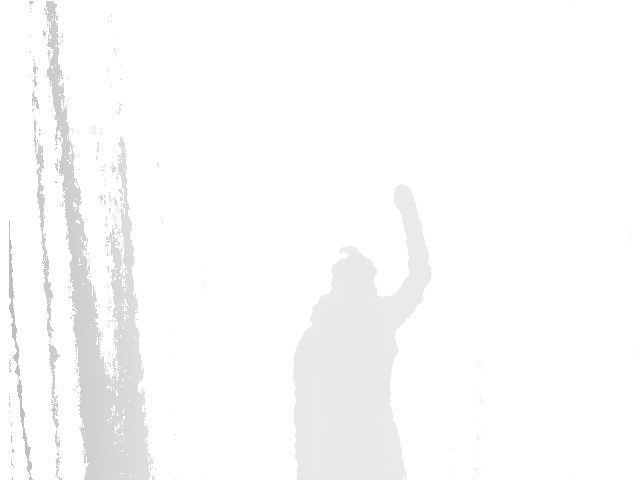hand: (392, 183, 420, 217)
head: (329, 246, 379, 300)
person: (294, 182, 432, 479)
